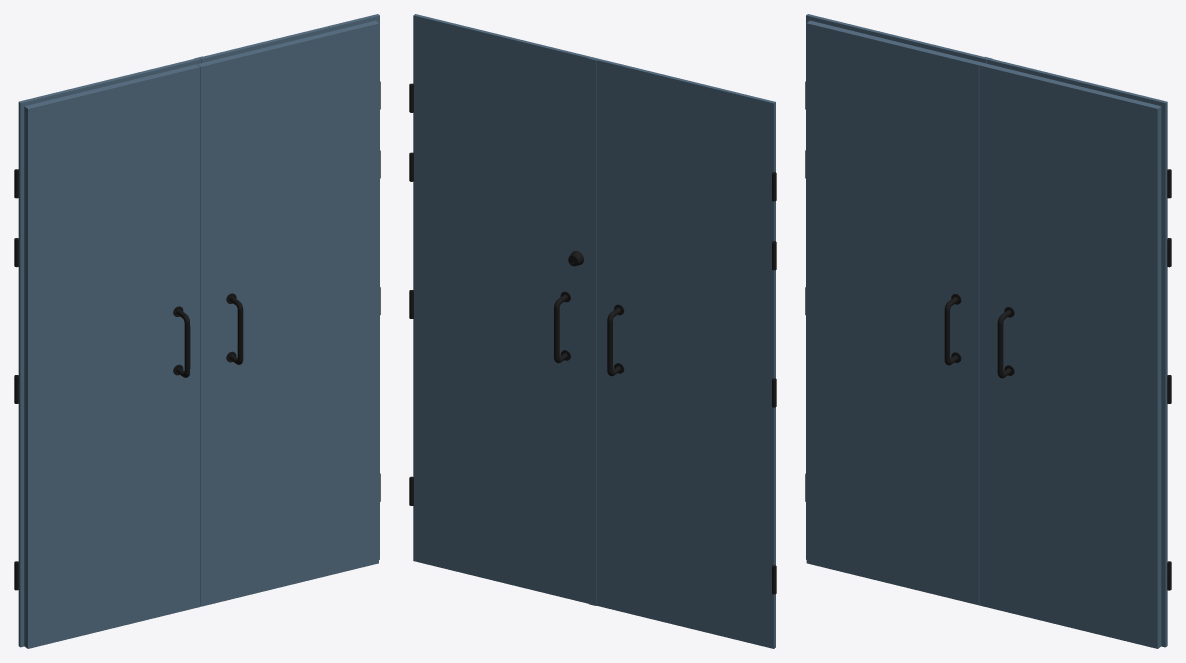
Rendered from loutimen.FBX.
3 views of the same model, side by side, from view 1: azimuth 30°, elevation 25°; view 2: azimuth 150°, elevation 25°; view 3: azimuth 330°, elevation 25° (orthographic).
Parts seen in each view (by area): view 1: men003, men005; view 2: men003, men005; view 3: men005, men003.
Part boxes in pixels (left/top/right/bottom): men003: left=14, top=56, right=202, bottom=648; men005: left=197, top=14, right=380, bottom=606; men003: left=588, top=58, right=776, bottom=648; men005: left=409, top=14, right=594, bottom=603; men005: left=979, top=58, right=1171, bottom=648; men003: left=805, top=14, right=992, bottom=605.
Bounding box in the file's own units: 163 × 233 × 20.84.
